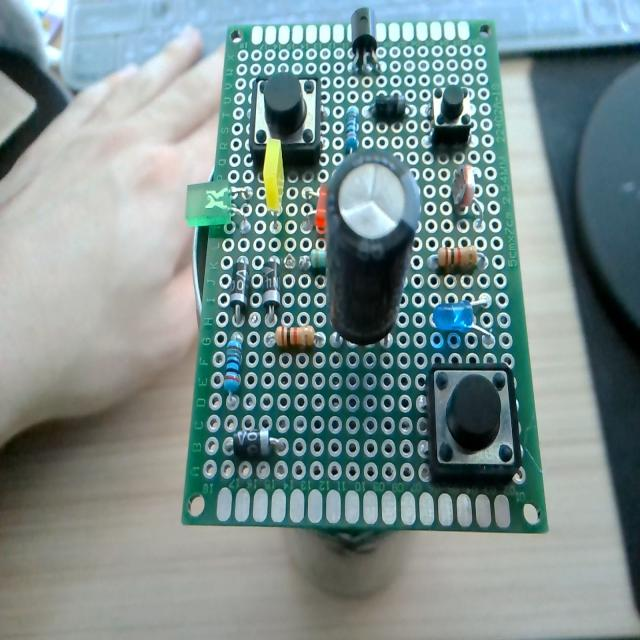Electrolytic capacitor: (323, 149, 422, 360)
cds: (446, 161, 489, 224)
diode: (230, 256, 250, 322), (234, 428, 276, 458), (262, 259, 281, 319), (374, 92, 406, 122)
led: (431, 297, 492, 340), (184, 180, 234, 228), (263, 138, 285, 214)
resistor: (223, 334, 244, 396), (437, 246, 478, 272), (276, 325, 316, 348), (345, 106, 359, 152)
switch: (424, 362, 520, 482), (250, 73, 321, 170), (431, 85, 472, 146)
transistor: (349, 5, 379, 70)
